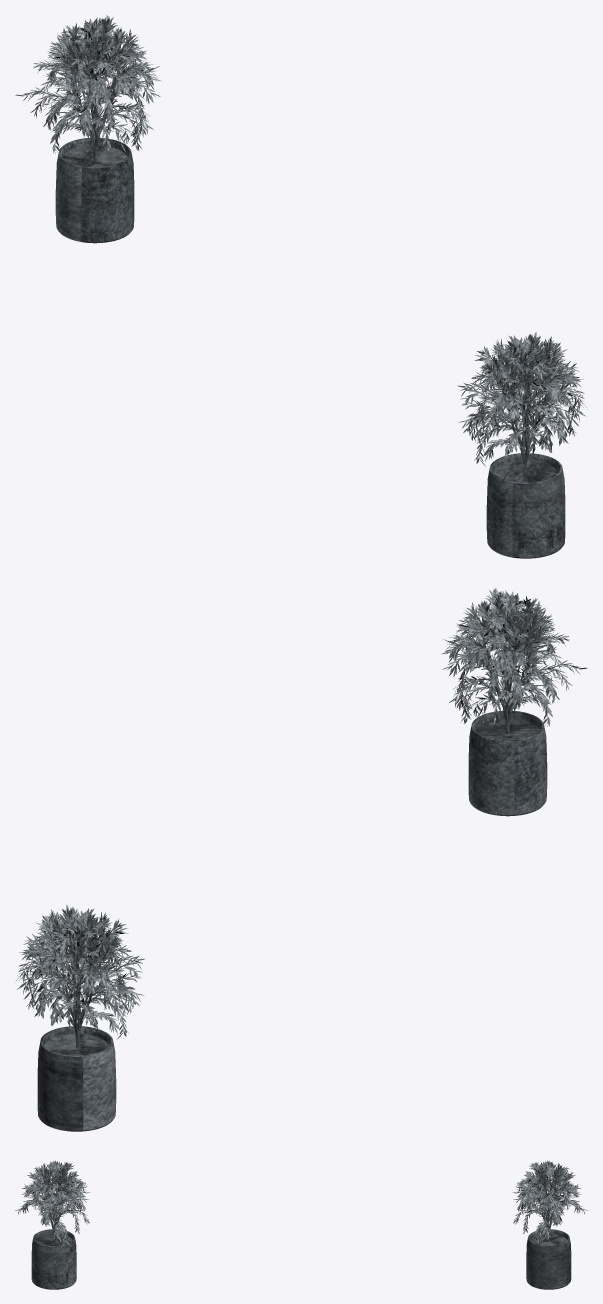
Rendered from minimalistic_modern_office_5.obj.
3 renders of one model, top to bottom at view 1: azimuth 30°, elevation 25°; view 2: azimuth 150°, elevation 25°; view 3: azimuth 270°, elevation 25°, orthographic. The views are drawn at different scales.
Bounding box in the file's own units: 1.24 × 1.99 × 8.9.
